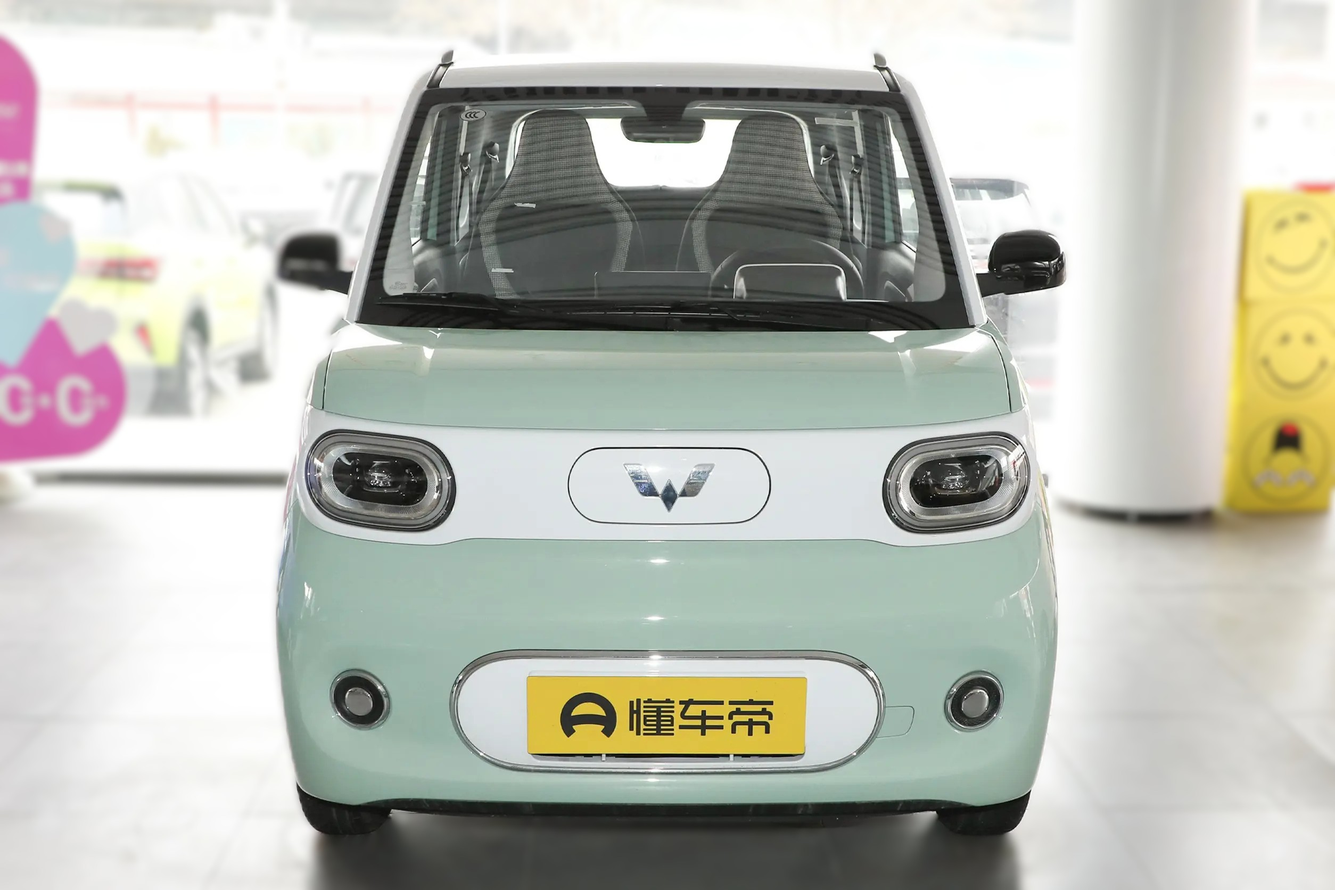SGMW: (624, 463, 715, 512)
